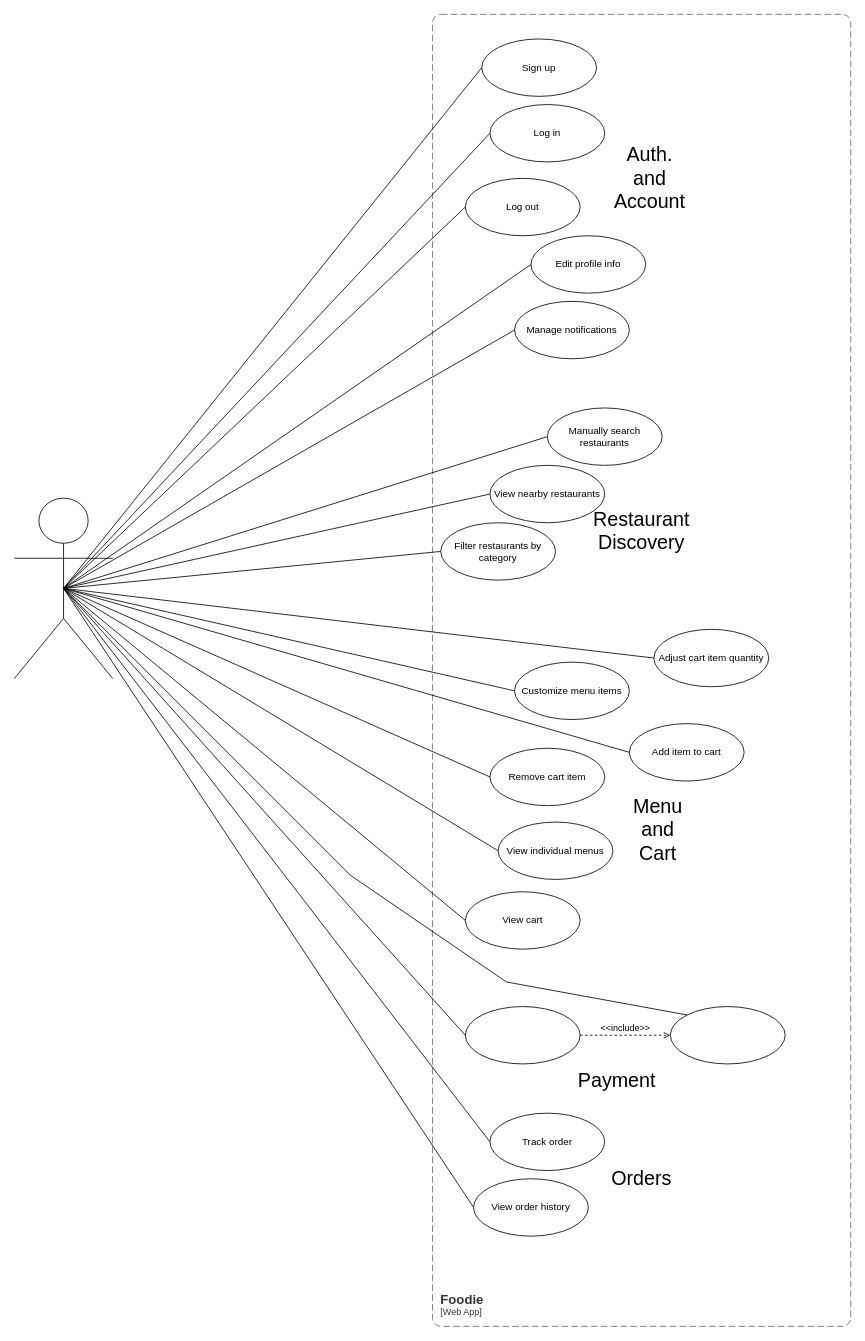
This 865x1341 diagram has some shape labels left out. Here are the shapes that lost their labels. From the top down, the centre of each, then its label:
At [63,588]: "User".
At [522,1035]: "Checkout".
At [727,1035]: "Buy credits".
